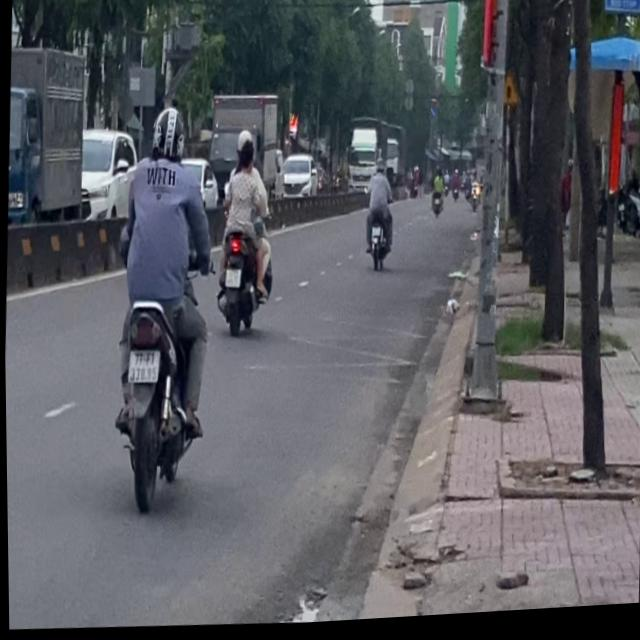helmet: (146, 104, 185, 175), (233, 129, 251, 153)
licenseplate: (99, 95, 217, 514), (209, 127, 275, 339)
motorcyclist: (235, 140, 254, 173)
nohelmet: (126, 347, 156, 382), (222, 269, 238, 288)
